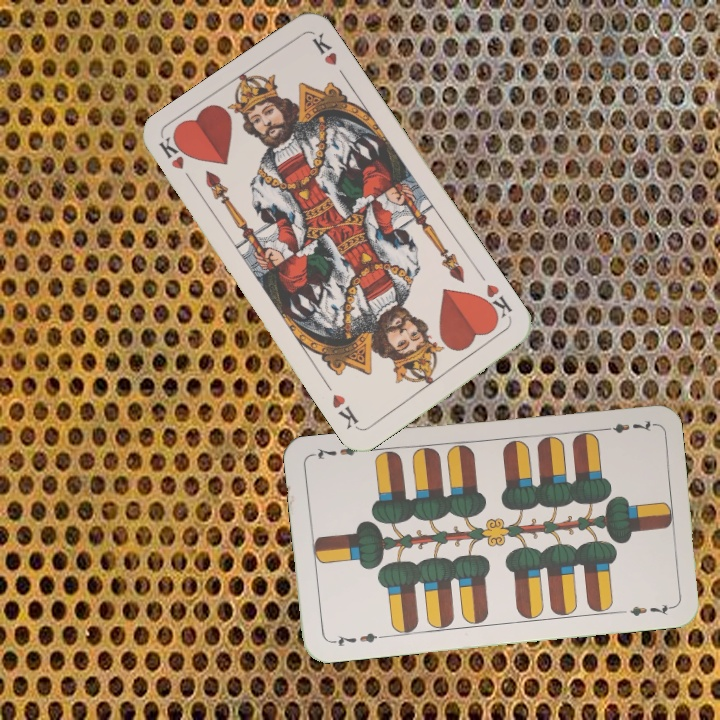E7: (327, 628, 386, 649), (597, 417, 656, 436)
HK: (155, 133, 198, 189), (476, 280, 515, 325)
